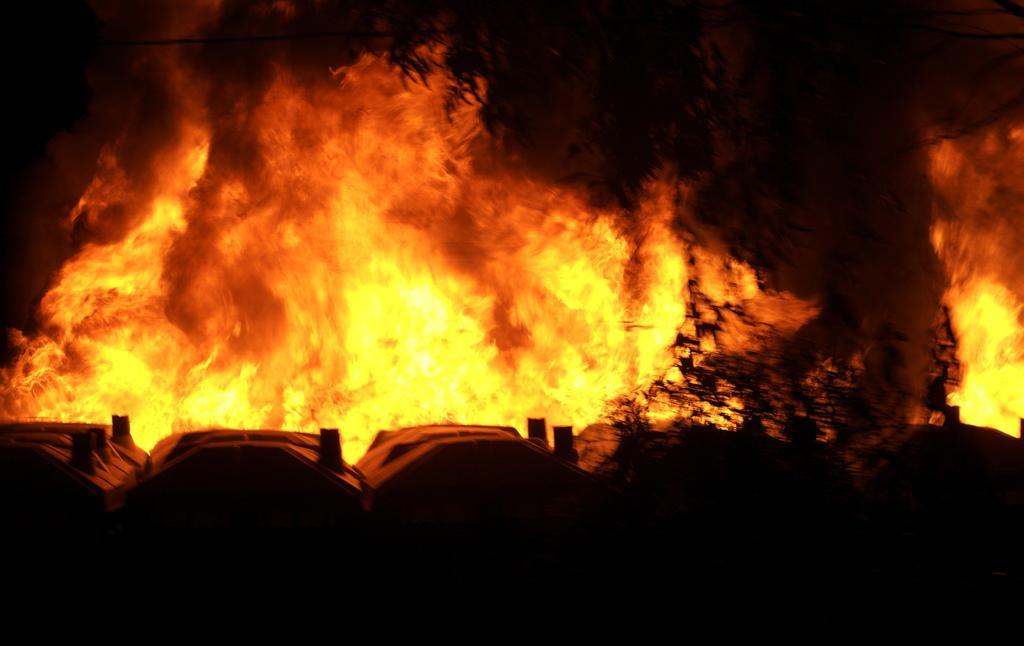fire: (85, 167, 583, 423), (960, 247, 1024, 417)
